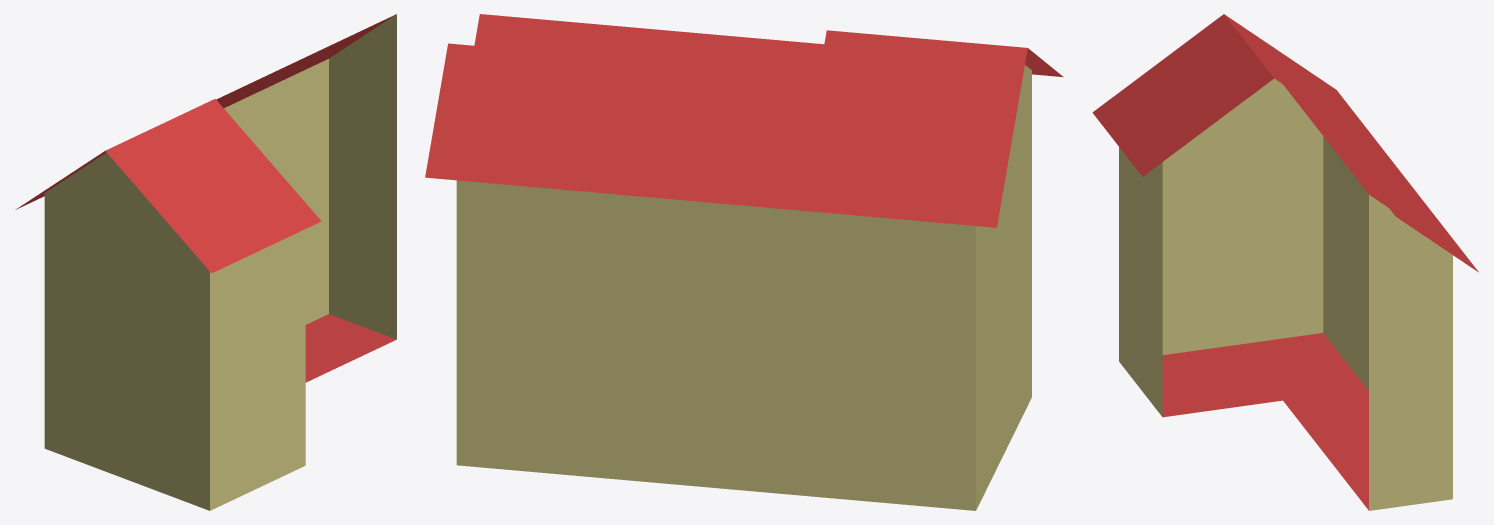
3 views of the same model, side by side, from view 1: azimuth 30°, elevation 25°; view 2: azimuth 150°, elevation 25°; view 3: azimuth 270°, elevation 25° (orthographic). The views are drawn at different scales.
Bounding box in the file's own units: 10.98 × 9.22 × 8.49.
